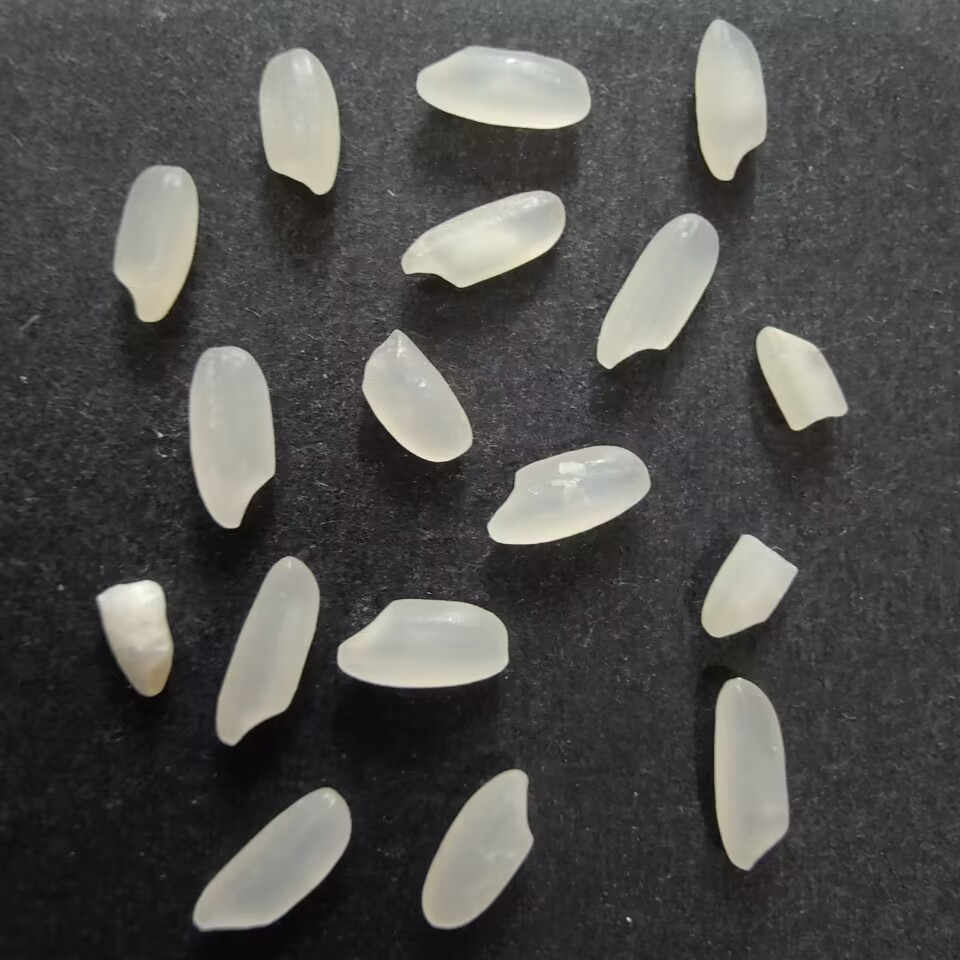broken: (355, 325, 474, 466), (691, 530, 804, 646), (754, 319, 853, 436), (94, 578, 175, 700)
rice: (187, 783, 354, 936), (210, 553, 322, 748), (592, 211, 723, 376), (415, 766, 536, 933), (333, 594, 516, 696), (183, 342, 278, 532), (479, 443, 650, 548), (395, 189, 567, 293), (708, 673, 794, 878), (412, 39, 593, 131), (110, 160, 204, 330), (254, 44, 344, 200), (691, 18, 767, 185)
